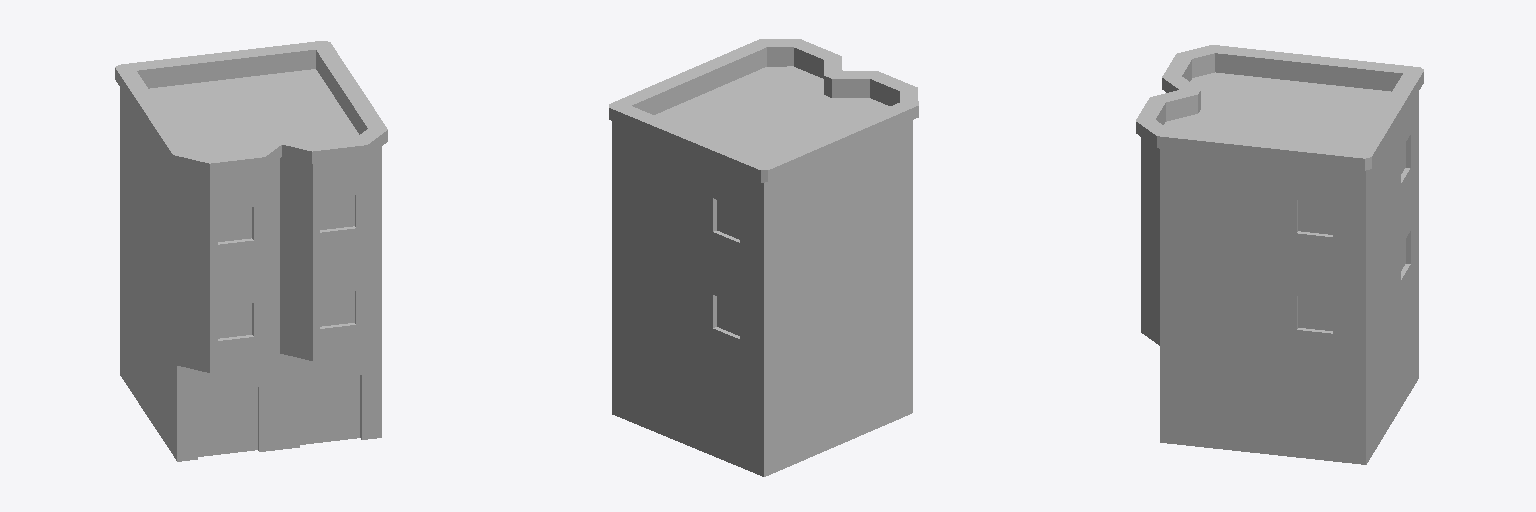
Rendered from variant_23.obj.
The picture shows the model from 3 angles: view 1: azimuth 30°, elevation 25°; view 2: azimuth 150°, elevation 25°; view 3: azimuth 270°, elevation 25°; orthographic projection.
Parts seen in each view (by area): view 1: small_buildingA; view 2: small_buildingA; view 3: small_buildingA.
Boxes of the visible parts, x1=… form: small_buildingA: x1=115, y1=41, x2=387, y2=461; small_buildingA: x1=609, y1=39, x2=918, y2=476; small_buildingA: x1=1136, y1=45, x2=1423, y2=464.
Bounding box in the file's own units: 1.01 × 1.28 × 1.09.